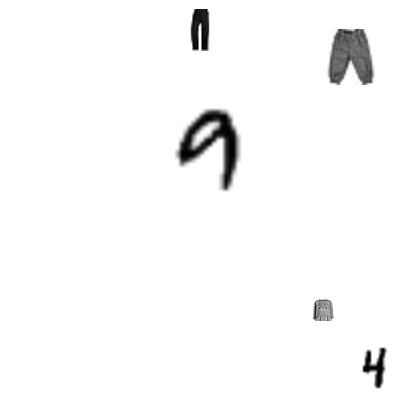4: (347, 338, 403, 394)
9: (156, 86, 268, 198)
Pullover: (312, 299, 334, 321)
Trouser: (322, 29, 378, 85), (179, 9, 221, 51)
